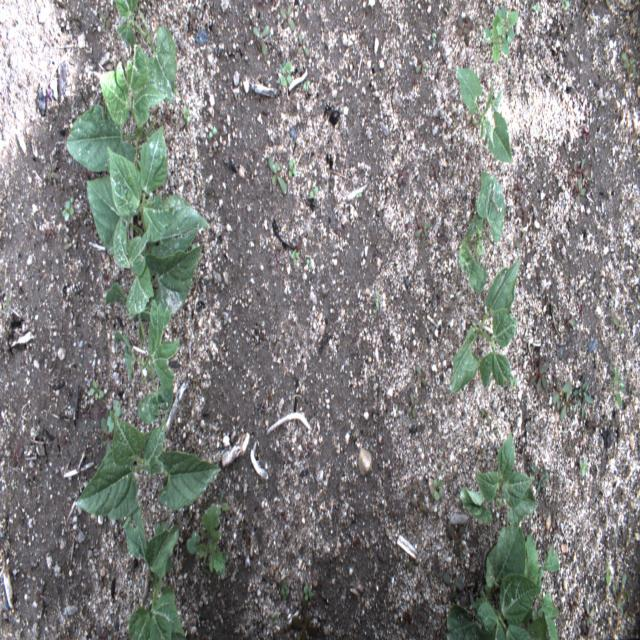crop: (84, 125, 210, 263), (76, 407, 222, 518), (66, 44, 167, 176), (447, 522, 543, 640), (106, 217, 203, 322), (449, 258, 522, 392), (121, 504, 186, 639), (115, 298, 179, 424), (458, 432, 540, 526), (114, 0, 178, 103), (458, 171, 505, 293), (456, 66, 512, 162)
weed: (521, 532, 560, 640), (186, 502, 228, 576), (484, 14, 509, 65), (155, 522, 175, 574), (495, 5, 518, 44), (527, 354, 549, 392), (267, 155, 286, 196), (610, 366, 626, 410), (550, 379, 571, 412), (529, 464, 549, 496), (612, 573, 628, 613), (577, 382, 594, 418), (252, 23, 271, 55), (447, 524, 465, 556), (620, 51, 637, 84), (456, 15, 473, 47), (105, 399, 120, 434), (573, 157, 595, 180), (100, 418, 112, 460), (279, 5, 296, 34), (442, 573, 464, 592), (414, 214, 431, 238), (515, 200, 530, 227), (405, 391, 419, 418), (560, 387, 571, 421), (216, 488, 230, 514), (297, 31, 311, 57), (280, 59, 293, 86), (61, 197, 74, 222), (100, 8, 112, 35), (584, 600, 596, 626), (576, 177, 587, 205), (88, 380, 103, 400), (416, 364, 428, 389), (415, 54, 427, 76), (433, 478, 444, 502), (46, 160, 59, 180), (612, 316, 624, 337), (514, 229, 527, 248), (574, 379, 588, 396), (563, 309, 576, 327), (290, 248, 302, 266), (397, 167, 408, 186), (182, 102, 192, 122), (481, 407, 490, 429), (281, 579, 290, 600), (288, 160, 298, 178), (303, 582, 313, 600), (373, 290, 379, 314), (580, 459, 588, 477), (208, 126, 217, 139), (310, 186, 319, 197), (509, 376, 518, 387), (606, 564, 610, 586), (302, 79, 310, 89), (562, 0, 570, 9), (306, 258, 312, 268), (533, 5, 541, 10)
